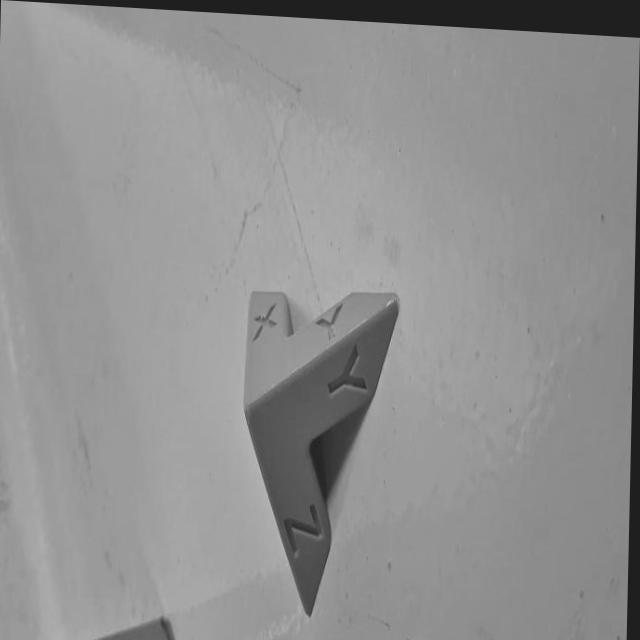eje: (234, 259, 403, 635)
